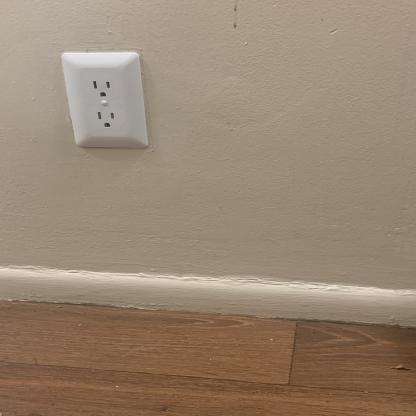OUTLET: (59, 50, 151, 152)
